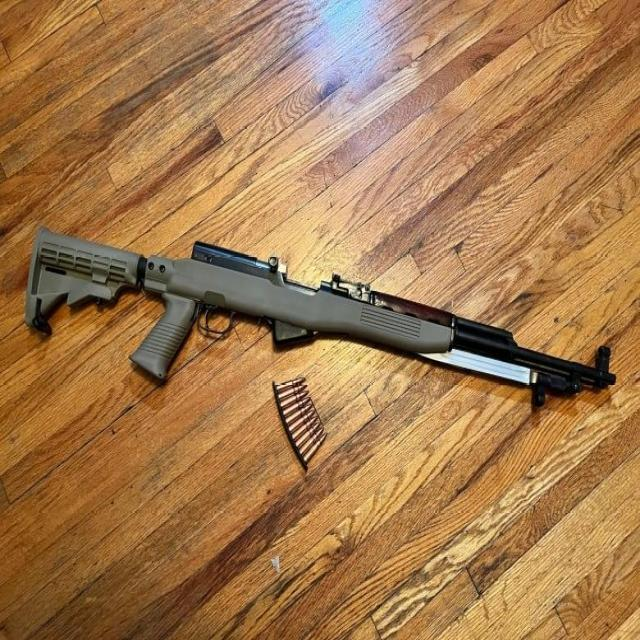weapon: (26, 208, 616, 469)
